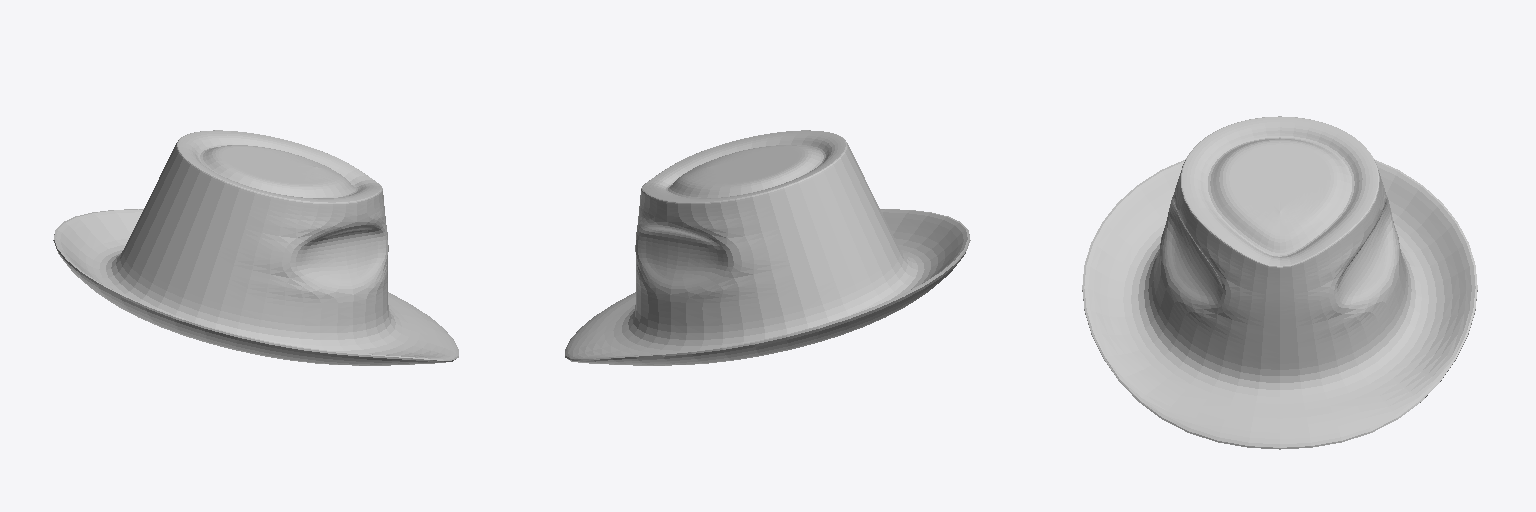
The model's file is panama.obj.
3 views of the same model, side by side, from view 1: azimuth 30°, elevation 25°; view 2: azimuth 150°, elevation 25°; view 3: azimuth 270°, elevation 25° (orthographic).
Parts seen in each view (by area): view 1: Panama; view 2: Panama; view 3: Panama.
Part boxes in pixels (x1,y1,x2,y2): Panama: (53,130,458,365); Panama: (565,130,970,365); Panama: (1082,116,1477,449).
Bounding box in the file's own units: 0.1161 × 0.0681 × 0.113.